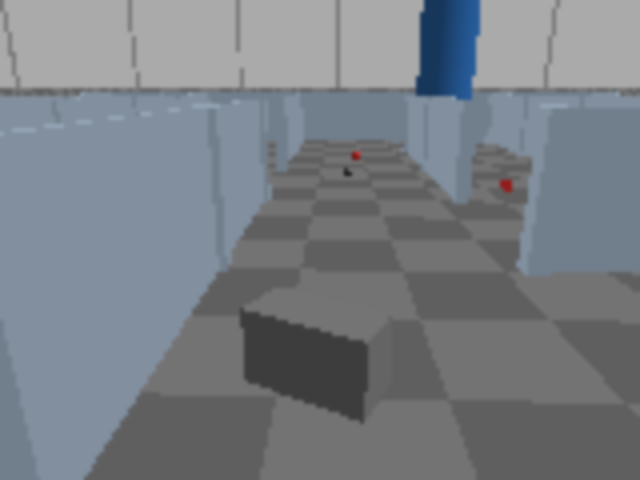obstacle: (241, 286, 394, 424)
